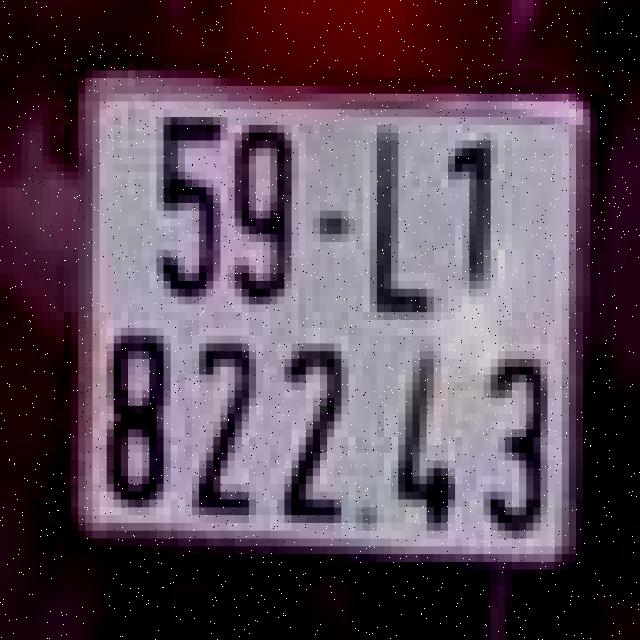1: (444, 129, 508, 316)
2: (185, 336, 263, 530), (278, 336, 348, 538)
3: (473, 348, 558, 550)
4: (388, 347, 466, 535)
5: (146, 105, 231, 308)
8: (92, 324, 178, 519)
9: (235, 117, 313, 304)
L: (348, 113, 441, 324)
